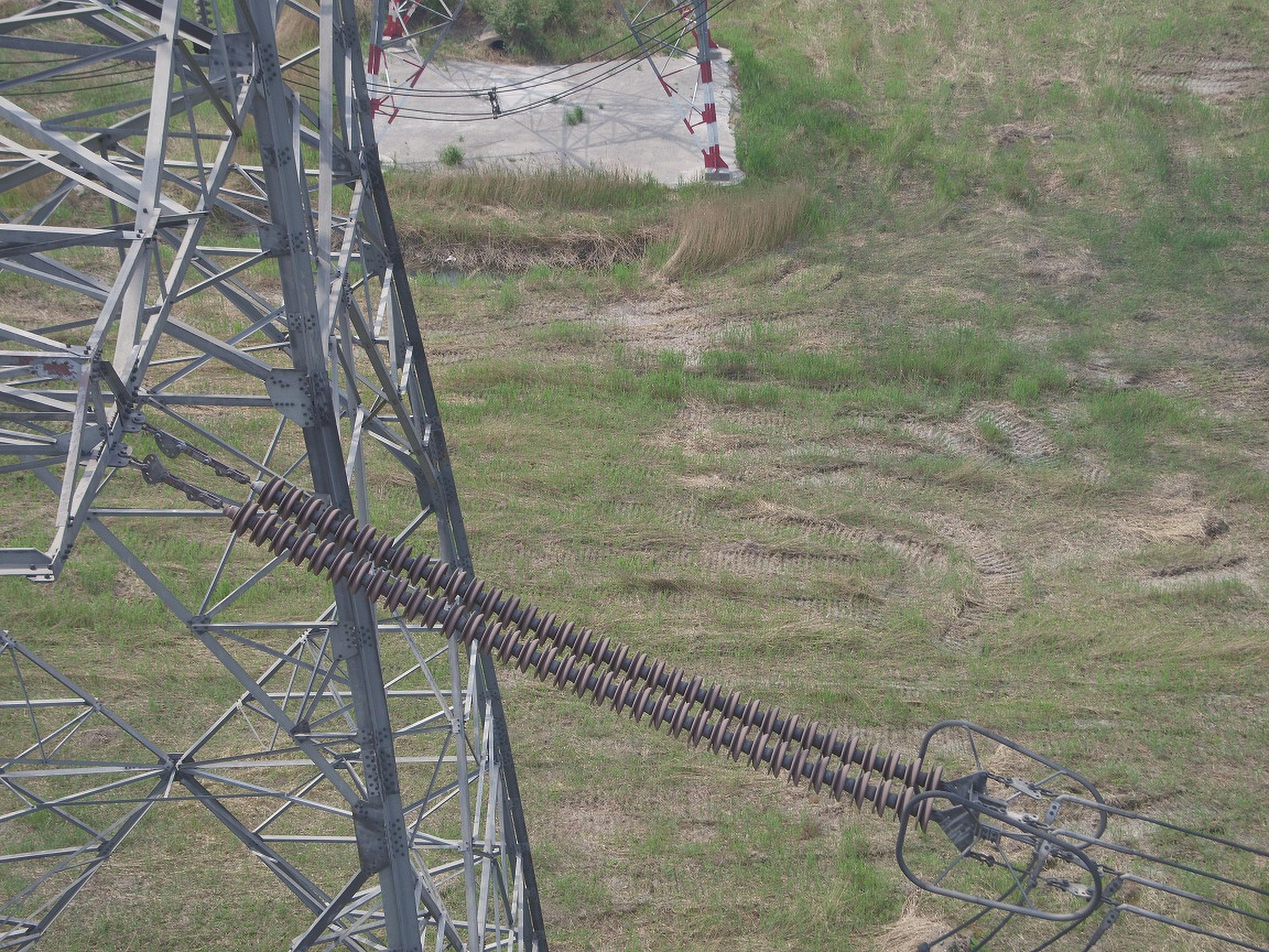insulator: (225, 473, 947, 836)
